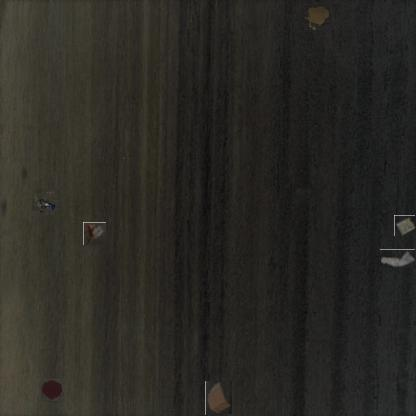dirty: (205, 382, 232, 416), (379, 249, 415, 268), (83, 222, 106, 245), (34, 191, 56, 213), (394, 215, 415, 236)
liquid: (304, 4, 330, 30), (40, 379, 64, 401)
